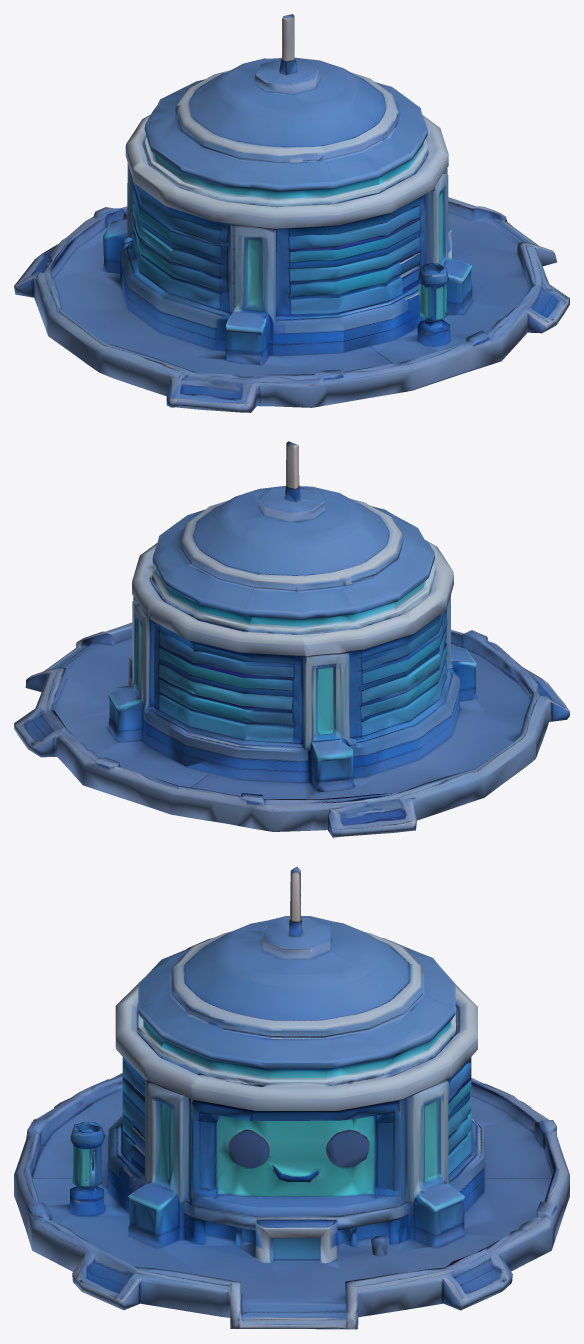
The model's file is SM_Bld_AIAgentLab_01.glb.
3 views of the same model, one above another, from view 1: azimuth 30°, elevation 25°; view 2: azimuth 150°, elevation 25°; view 3: azimuth 270°, elevation 25° (orthographic). The views are drawn at different scales.
Visible parts, largest first — view 1: tripo_node_72df4ab6-0a5b-485c-ad08-2fff630ea091; view 2: tripo_node_72df4ab6-0a5b-485c-ad08-2fff630ea091; view 3: tripo_node_72df4ab6-0a5b-485c-ad08-2fff630ea091.
Part boxes in pixels (x1,y1,x2,y2): tripo_node_72df4ab6-0a5b-485c-ad08-2fff630ea091: (14,14,569,412); tripo_node_72df4ab6-0a5b-485c-ad08-2fff630ea091: (14,441,569,837); tripo_node_72df4ab6-0a5b-485c-ad08-2fff630ea091: (14,866,569,1329).
Size of the model in its own units: 1 by 0.7645 by 0.9195.
Materials: 1 (1 with a texture image).
